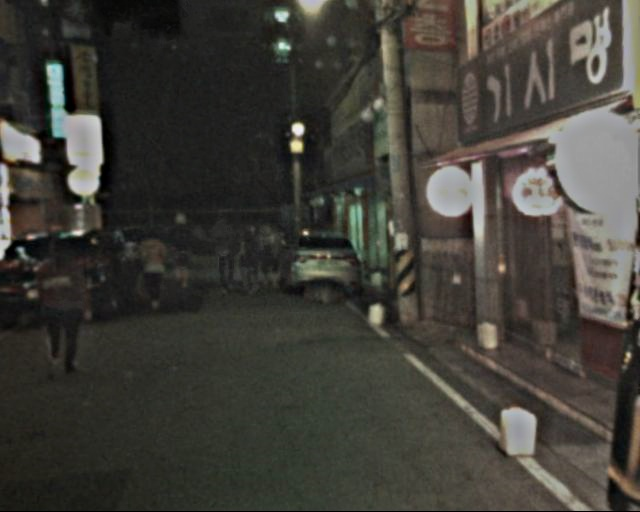person: (38, 234, 95, 370), (133, 222, 173, 312), (209, 213, 241, 296), (167, 208, 200, 281), (237, 219, 266, 299), (264, 224, 289, 285)
